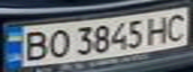3: (72, 24, 93, 56)
4: (109, 19, 130, 52)
5: (124, 17, 148, 48)
8: (90, 21, 115, 54)
B: (18, 28, 51, 62)
C: (160, 10, 193, 43)
H: (142, 12, 175, 45)
O: (42, 27, 72, 60)
